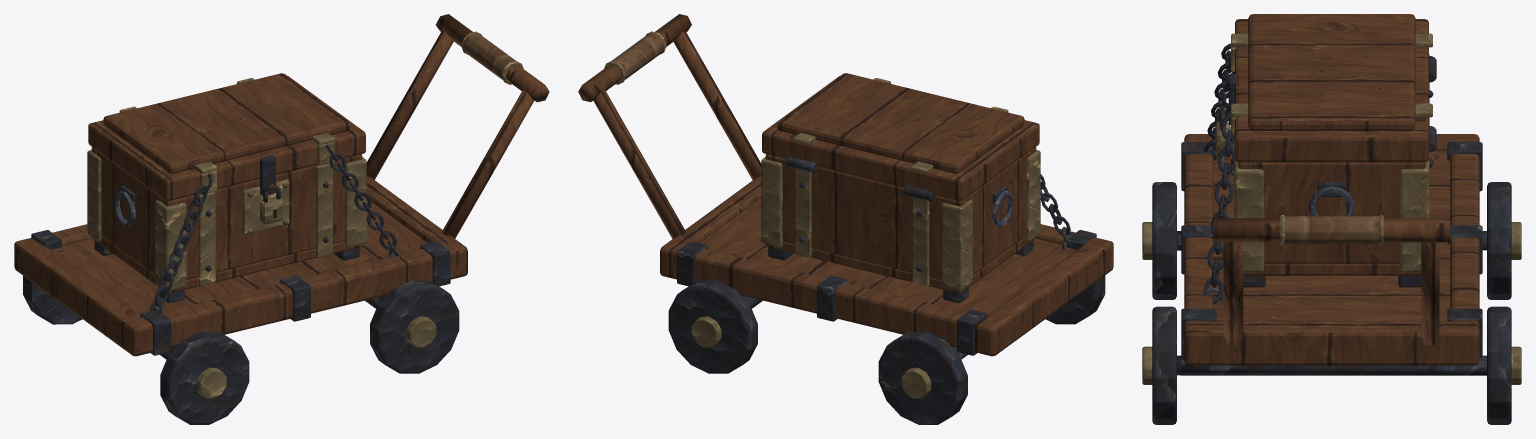
File: bv_coin_cart.glb
The picture shows the model from 3 angles, left to right: view 1: azimuth 30°, elevation 25°; view 2: azimuth 150°, elevation 25°; view 3: azimuth 270°, elevation 25°; orthographic projection. The views are drawn at different scales.
Parts seen in each view (by area): view 1: model; view 2: model; view 3: model.
Boxes of the visible parts, <box> form: model: <box>14,14,549,424</box>; model: <box>578,14,1113,424</box>; model: <box>1142,14,1521,424</box>.
Bounding box in the file's own units: 1.23 × 0.6504 × 0.77.
Materials: 7 (6 with a texture image).
